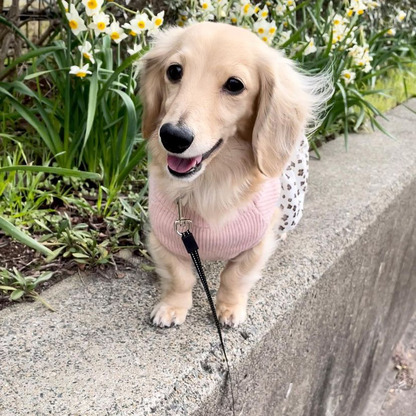dachshund: (112, 29, 347, 336)
